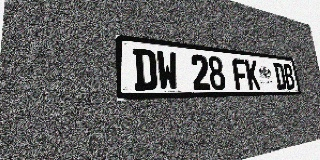2: (190, 54, 211, 90)
8: (207, 56, 226, 90)
B: (282, 63, 296, 89)
D: (133, 48, 158, 90), (273, 62, 287, 89)
F: (232, 58, 249, 90)
K: (245, 60, 261, 90)
W: (156, 50, 179, 90)
